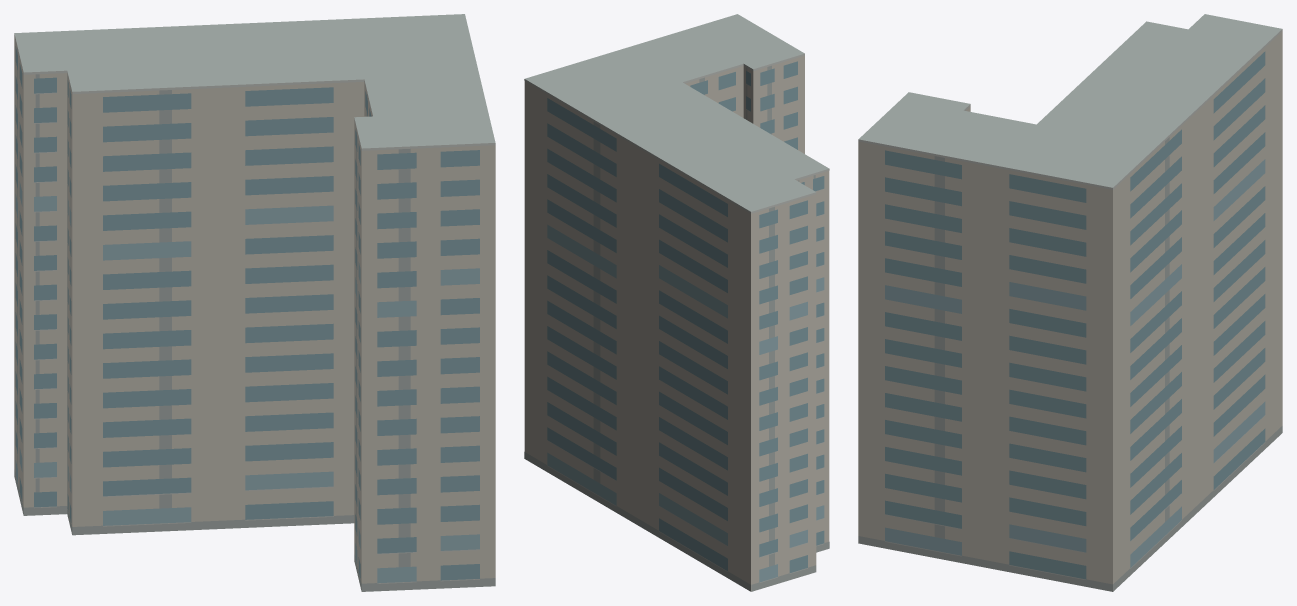
Rendered from residential-25df3665-53cb-44dd-8d49-00aa232cee80.glb.
3 views of the same model, side by side, from view 1: azimuth 30°, elevation 25°; view 2: azimuth 150°, elevation 25°; view 3: azimuth 270°, elevation 25° (orthographic). The views are drawn at different scales.
Visible parts, largest first — view 1: residential-25df3665-53cb-44dd-8d49-00aa232cee80.tmp; view 2: residential-25df3665-53cb-44dd-8d49-00aa232cee80.tmp; view 3: residential-25df3665-53cb-44dd-8d49-00aa232cee80.tmp.
Part boxes in pixels (x1,y1,x2,y2): residential-25df3665-53cb-44dd-8d49-00aa232cee80.tmp: (14,14,495,591); residential-25df3665-53cb-44dd-8d49-00aa232cee80.tmp: (524,14,829,591); residential-25df3665-53cb-44dd-8d49-00aa232cee80.tmp: (858,14,1282,591).
Bounding box in the file's own units: 42.45 × 46 × 43.77.
